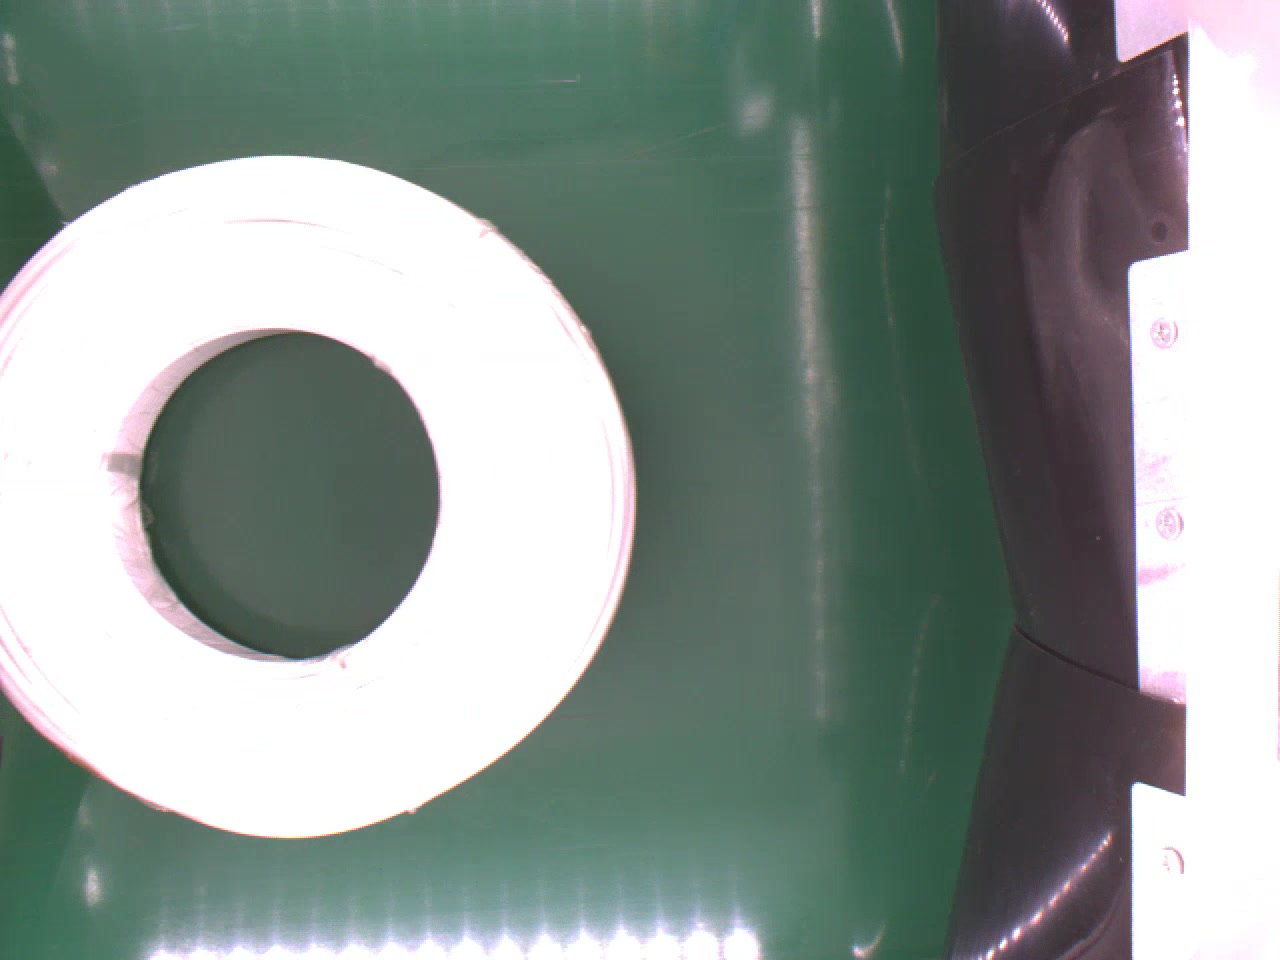white: (0, 151, 638, 843)
